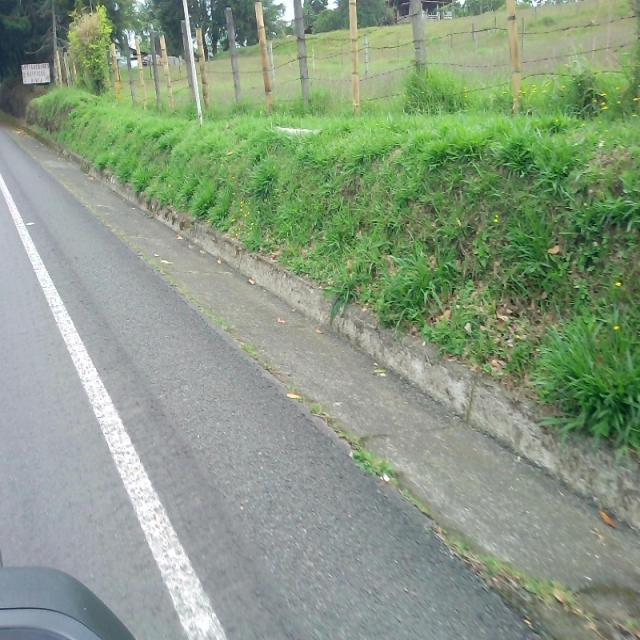DITCH: (2, 123, 638, 638)
